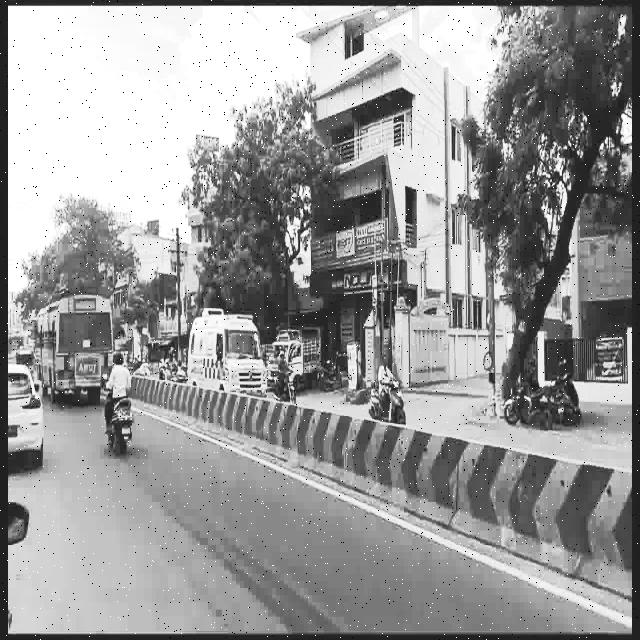Ambulance: (189, 314, 268, 395)
